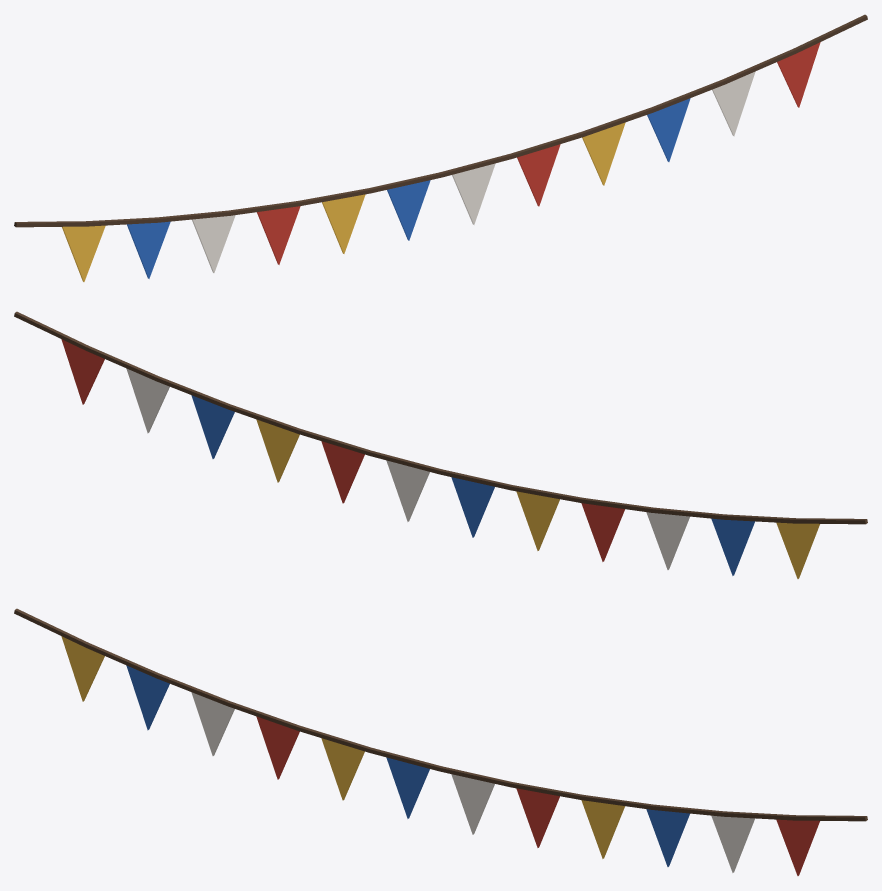
Rendered from CatCafe_Square_RallyBuntingShort.glb.
3 renders of one model, top to bottom at view 1: azimuth 30°, elevation 25°; view 2: azimuth 150°, elevation 25°; view 3: azimuth 330°, elevation 25°, orthographic.
Visible parts, largest first — view 1: CatCafe_Square_RallyBuntingShort, CatCafe_Square_RallyBuntingShort_Flag12_Pennant, CatCafe_Square_RallyBuntingShort_Flag06_Pennant, CatCafe_Square_RallyBuntingShort_Flag09_Pennant, CatCafe_Square_RallyBuntingShort_Flag07_Pennant, CatCafe_Square_RallyBuntingShort_Flag08_Pennant, CatCafe_Square_RallyBuntingShort_Flag11_Pennant, CatCafe_Square_RallyBuntingShort_Flag05_Pennant, CatCafe_Square_RallyBuntingShort_Flag10_Pennant, CatCafe_Square_RallyBuntingShort_Flag03_Pennant, CatCafe_Square_RallyBuntingShort_Flag04_Pennant, CatCafe_Square_RallyBuntingShort_Flag02_Pennant (+1 smaller); view 2: CatCafe_Square_RallyBuntingShort, CatCafe_Square_RallyBuntingShort_Flag12_Pennant, CatCafe_Square_RallyBuntingShort_Flag06_Pennant, CatCafe_Square_RallyBuntingShort_Flag09_Pennant, CatCafe_Square_RallyBuntingShort_Flag07_Pennant, CatCafe_Square_RallyBuntingShort_Flag08_Pennant, CatCafe_Square_RallyBuntingShort_Flag11_Pennant, CatCafe_Square_RallyBuntingShort_Flag05_Pennant, CatCafe_Square_RallyBuntingShort_Flag10_Pennant, CatCafe_Square_RallyBuntingShort_Flag03_Pennant, CatCafe_Square_RallyBuntingShort_Flag04_Pennant, CatCafe_Square_RallyBuntingShort_Flag02_Pennant (+1 smaller); view 3: CatCafe_Square_RallyBuntingShort, CatCafe_Square_RallyBuntingShort_Flag01_Pennant, CatCafe_Square_RallyBuntingShort_Flag04_Pennant, CatCafe_Square_RallyBuntingShort_Flag07_Pennant, CatCafe_Square_RallyBuntingShort_Flag02_Pennant, CatCafe_Square_RallyBuntingShort_Flag05_Pennant, CatCafe_Square_RallyBuntingShort_Flag06_Pennant, CatCafe_Square_RallyBuntingShort_Flag08_Pennant, CatCafe_Square_RallyBuntingShort_Flag03_Pennant, CatCafe_Square_RallyBuntingShort_Flag09_Pennant, CatCafe_Square_RallyBuntingShort_Flag10_Pennant, CatCafe_Square_RallyBuntingShort_Flag11_Pennant (+1 smaller).
Boxes of the visible parts, x1=… form: CatCafe_Square_RallyBuntingShort: x1=14, y1=14, x2=867, y2=227; CatCafe_Square_RallyBuntingShort_Flag12_Pennant: x1=62, y1=225, x2=105, y2=281; CatCafe_Square_RallyBuntingShort_Flag06_Pennant: x1=452, y1=163, x2=495, y2=224; CatCafe_Square_RallyBuntingShort_Flag09_Pennant: x1=257, y1=206, x2=300, y2=264; CatCafe_Square_RallyBuntingShort_Flag07_Pennant: x1=387, y1=180, x2=430, y2=240; CatCafe_Square_RallyBuntingShort_Flag08_Pennant: x1=322, y1=194, x2=365, y2=253; CatCafe_Square_RallyBuntingShort_Flag11_Pennant: x1=127, y1=221, x2=170, y2=278; CatCafe_Square_RallyBuntingShort_Flag05_Pennant: x1=517, y1=144, x2=560, y2=206; CatCafe_Square_RallyBuntingShort_Flag10_Pennant: x1=192, y1=215, x2=235, y2=272; CatCafe_Square_RallyBuntingShort_Flag03_Pennant: x1=647, y1=98, x2=690, y2=161; CatCafe_Square_RallyBuntingShort_Flag04_Pennant: x1=582, y1=122, x2=625, y2=185; CatCafe_Square_RallyBuntingShort_Flag02_Pennant: x1=712, y1=71, x2=755, y2=136; CatCafe_Square_RallyBuntingShort: x1=14, y1=311, x2=867, y2=524; CatCafe_Square_RallyBuntingShort_Flag12_Pennant: x1=776, y1=522, x2=819, y2=578; CatCafe_Square_RallyBuntingShort_Flag06_Pennant: x1=386, y1=460, x2=429, y2=521; CatCafe_Square_RallyBuntingShort_Flag09_Pennant: x1=581, y1=503, x2=624, y2=561; CatCafe_Square_RallyBuntingShort_Flag07_Pennant: x1=451, y1=477, x2=494, y2=537; CatCafe_Square_RallyBuntingShort_Flag08_Pennant: x1=516, y1=491, x2=559, y2=550; CatCafe_Square_RallyBuntingShort_Flag11_Pennant: x1=711, y1=518, x2=754, y2=575; CatCafe_Square_RallyBuntingShort_Flag05_Pennant: x1=321, y1=441, x2=364, y2=503; CatCafe_Square_RallyBuntingShort_Flag10_Pennant: x1=646, y1=512, x2=689, y2=569; CatCafe_Square_RallyBuntingShort_Flag03_Pennant: x1=191, y1=395, x2=234, y2=458; CatCafe_Square_RallyBuntingShort_Flag04_Pennant: x1=256, y1=419, x2=299, y2=482; CatCafe_Square_RallyBuntingShort_Flag02_Pennant: x1=126, y1=368, x2=169, y2=433; CatCafe_Square_RallyBuntingShort: x1=14, y1=608, x2=867, y2=821; CatCafe_Square_RallyBuntingShort_Flag01_Pennant: x1=776, y1=819, x2=819, y2=875; CatCafe_Square_RallyBuntingShort_Flag04_Pennant: x1=581, y1=800, x2=624, y2=858; CatCafe_Square_RallyBuntingShort_Flag07_Pennant: x1=386, y1=757, x2=429, y2=818; CatCafe_Square_RallyBuntingShort_Flag02_Pennant: x1=711, y1=815, x2=754, y2=872; CatCafe_Square_RallyBuntingShort_Flag05_Pennant: x1=516, y1=788, x2=559, y2=847; CatCafe_Square_RallyBuntingShort_Flag06_Pennant: x1=451, y1=774, x2=494, y2=834; CatCafe_Square_RallyBuntingShort_Flag08_Pennant: x1=321, y1=738, x2=364, y2=800; CatCafe_Square_RallyBuntingShort_Flag03_Pennant: x1=646, y1=809, x2=689, y2=866; CatCafe_Square_RallyBuntingShort_Flag09_Pennant: x1=256, y1=716, x2=299, y2=779; CatCafe_Square_RallyBuntingShort_Flag10_Pennant: x1=191, y1=692, x2=234, y2=755; CatCafe_Square_RallyBuntingShort_Flag11_Pennant: x1=126, y1=665, x2=169, y2=730.
Size of the model in its own units: 16.56 by 2.11 by 0.07.
1 material, 1 textured.
